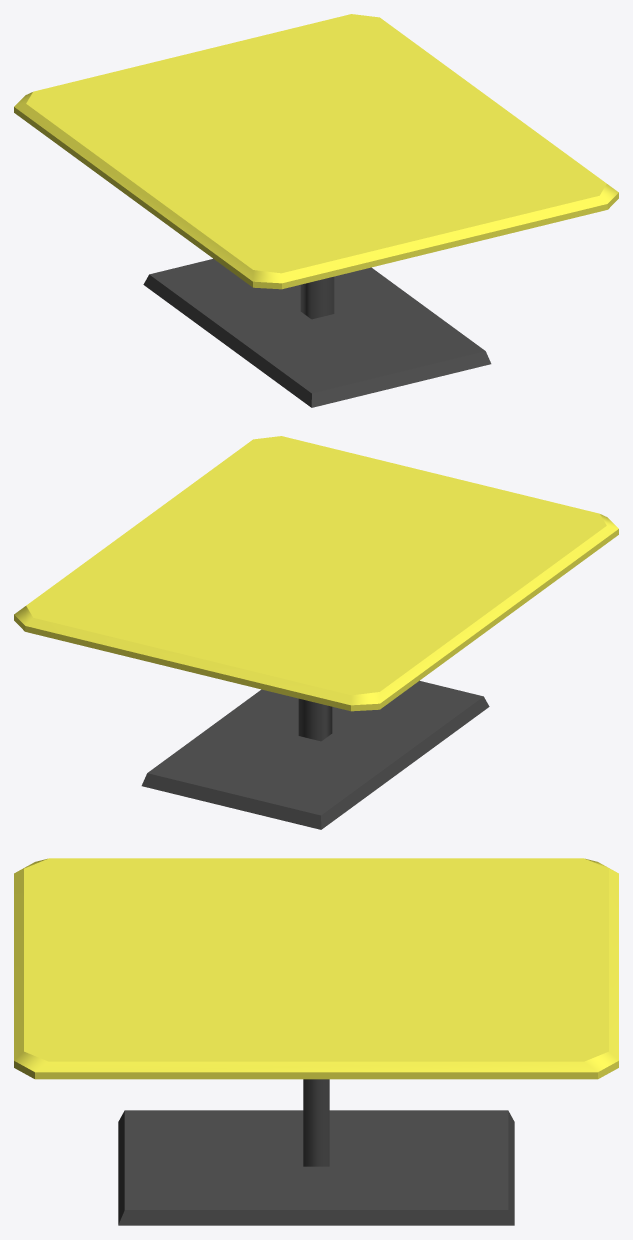
Rendered from SM_Table_2.fbx.
The picture shows the model from 3 angles, top to bottom: view 1: azimuth 30°, elevation 25°; view 2: azimuth 150°, elevation 25°; view 3: azimuth 270°, elevation 25°; orthographic projection. The views are drawn at different scales.
Parts seen in each view (by area): view 1: SM_Table_2; view 2: SM_Table_2; view 3: SM_Table_2.
Part boxes in pixels (x1=…): SM_Table_2: x1=14, y1=14, x2=618, y2=407; SM_Table_2: x1=14, y1=436, x2=618, y2=829; SM_Table_2: x1=14, y1=858, x2=618, y2=1225.
Bounding box in the file's own units: 138 × 65.27 × 168.
